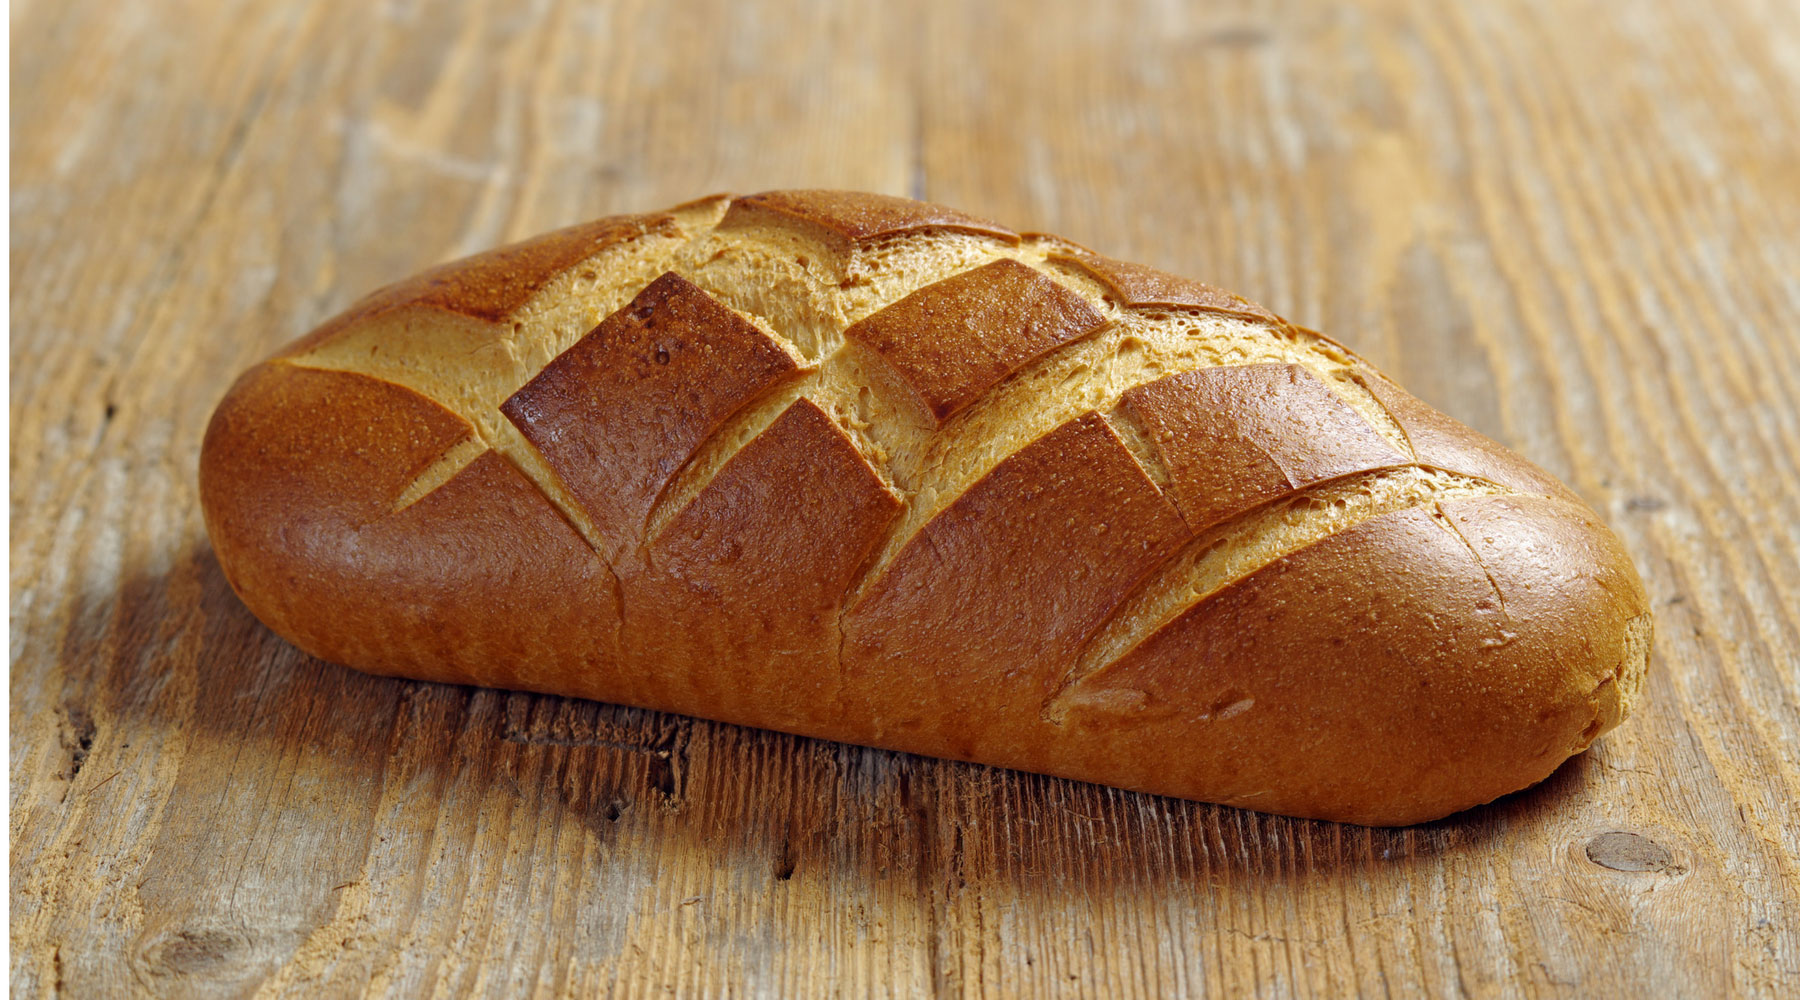slice of bread: (240, 192, 1658, 826)
